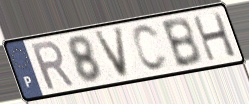8: (67, 33, 105, 86)
B: (159, 16, 203, 70)
C: (130, 23, 171, 73)
H: (190, 10, 239, 63)
R: (28, 38, 77, 93)
V: (92, 24, 130, 81)
